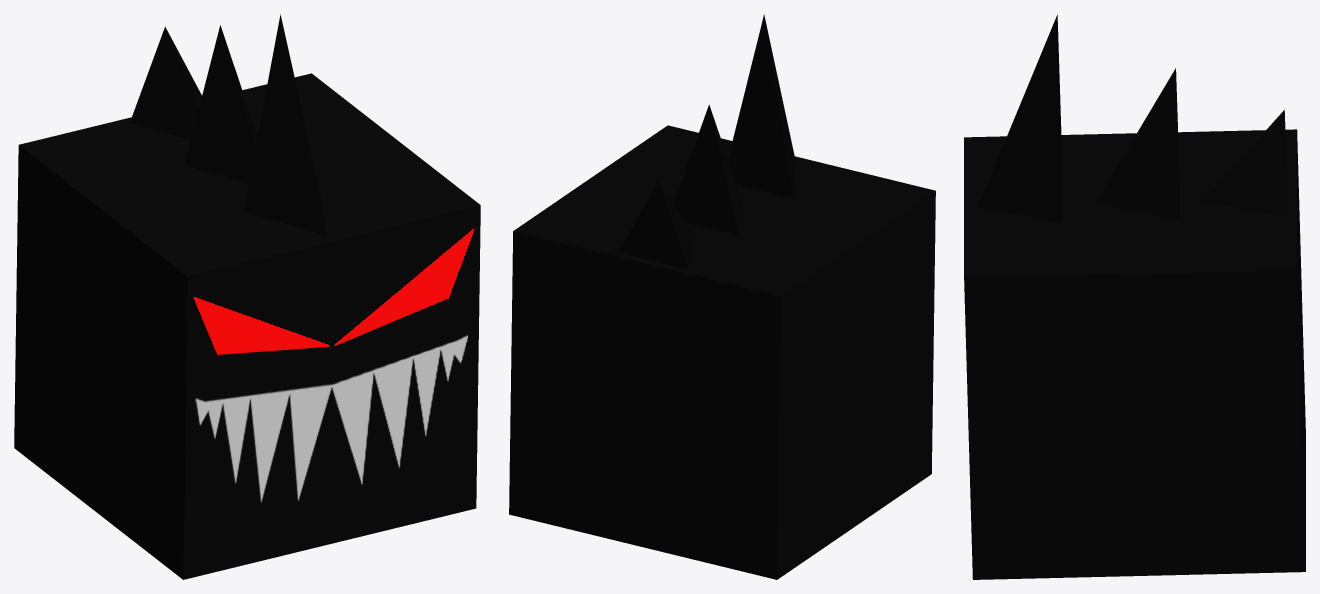
Rendered from voxter-helmet.glb.
3 views of the same model, side by side, from view 1: azimuth 30°, elevation 25°; view 2: azimuth 150°, elevation 25°; view 3: azimuth 270°, elevation 25° (orthographic). The views are drawn at different scales.
Visible parts, largest first — view 1: voxter01; view 2: voxter01; view 3: voxter01.
Boxes of the visible parts, <box> form: voxter01: <box>14,14,480,579</box>; voxter01: <box>509,14,935,579</box>; voxter01: <box>964,14,1305,579</box>.
Size of the model in its own units: 1.09 by 1.78 by 1.12.
1 material, 1 textured.
